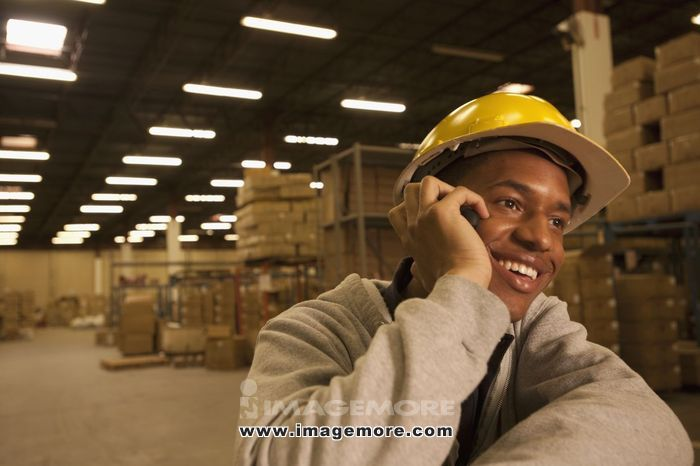phone: (396, 175, 474, 251)
talk: (381, 157, 565, 321)
